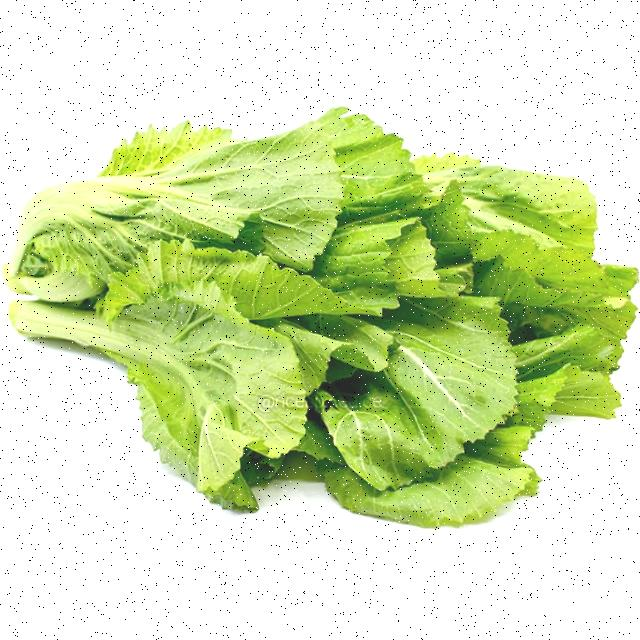NA: (28, 103, 640, 531)
